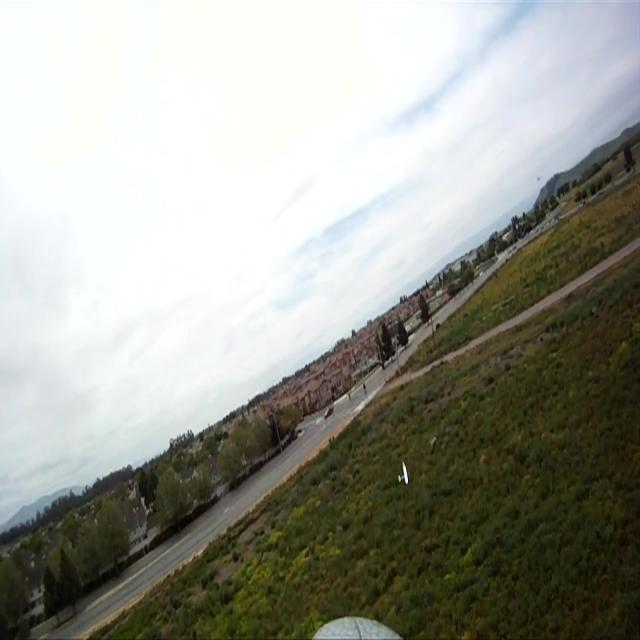iha: (398, 461, 411, 485)
